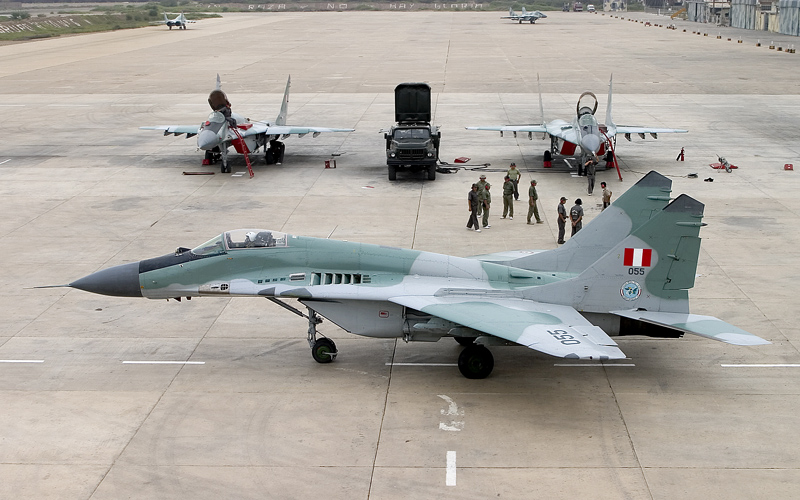Mig-29: (71, 176, 749, 432), (487, 73, 688, 183), (145, 72, 331, 178), (499, 5, 551, 28), (153, 10, 200, 34)
